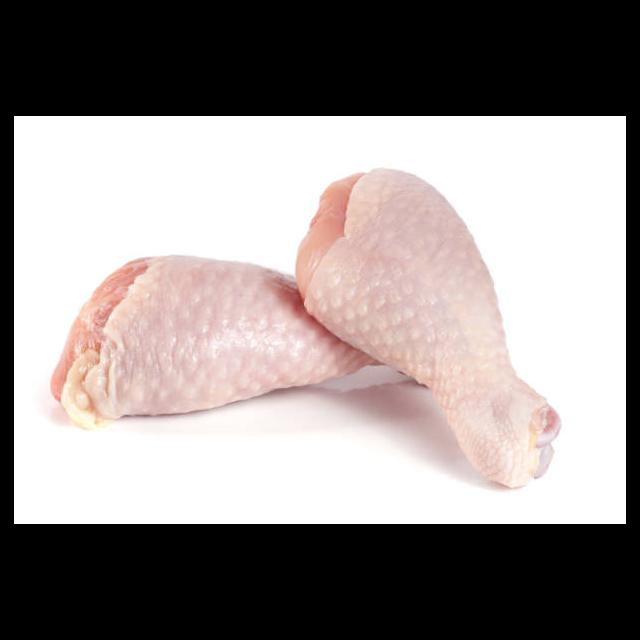chicken: (297, 165, 560, 488), (50, 257, 387, 427)
